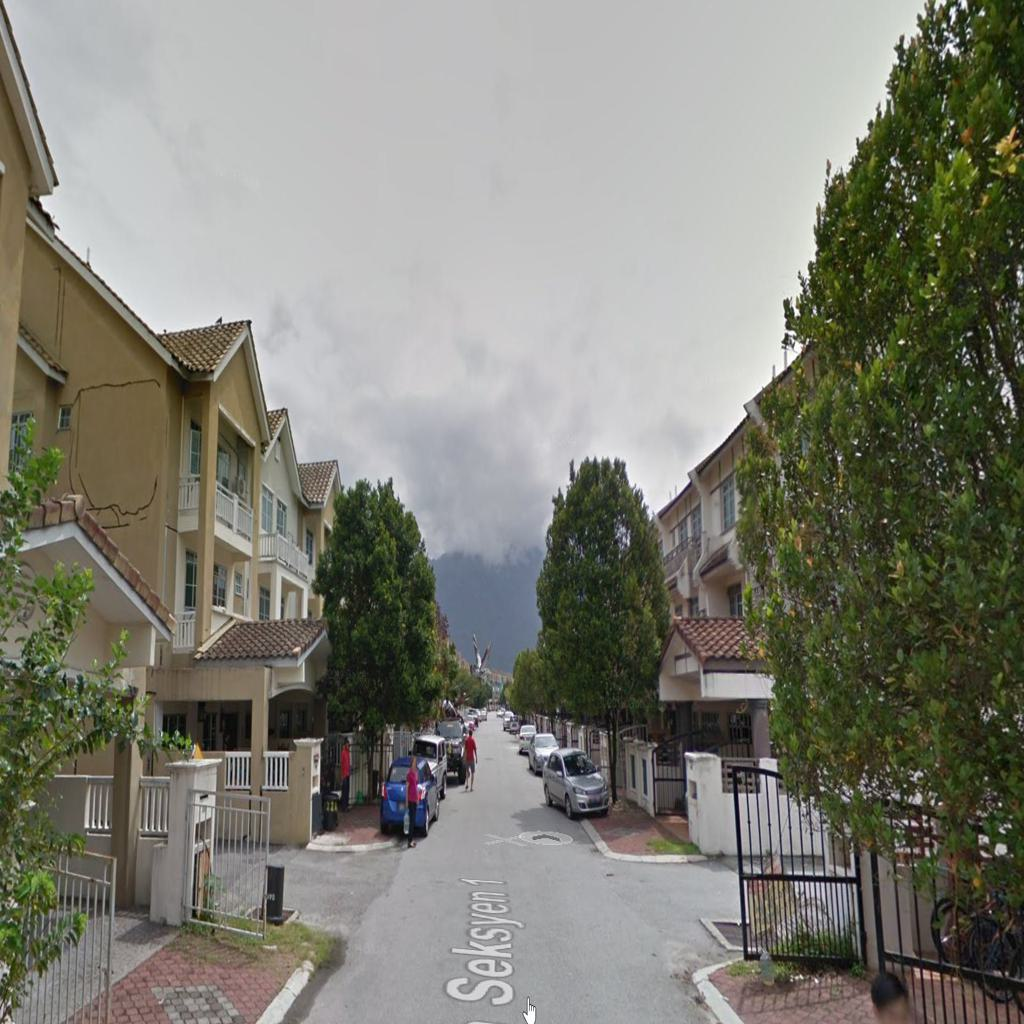Junction: (214, 793, 425, 984), (600, 825, 829, 997)
